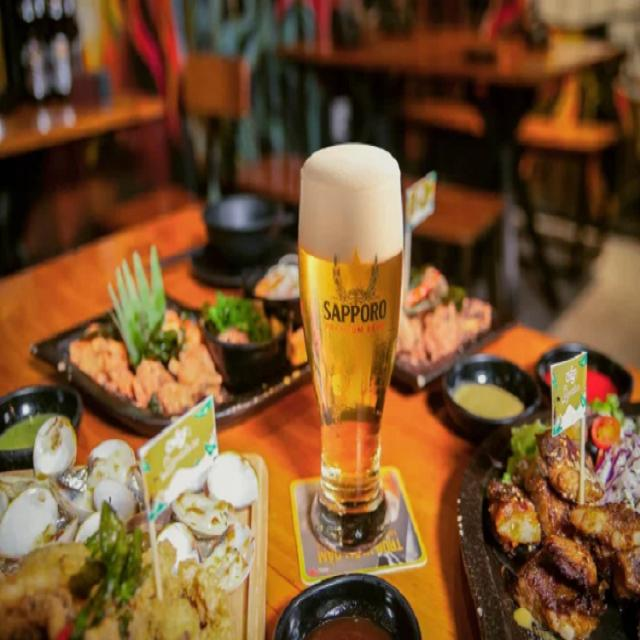bia: (303, 138, 404, 550)
